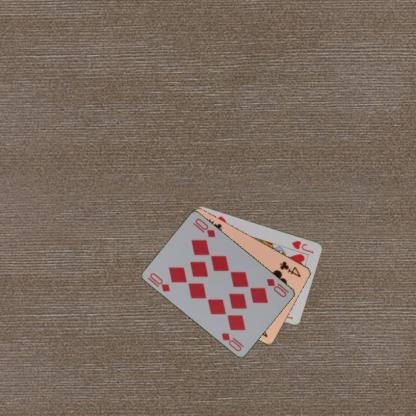10d: (145, 270, 172, 293), (264, 276, 290, 298)
4c: (278, 258, 302, 278)
Jh: (289, 238, 315, 255)
